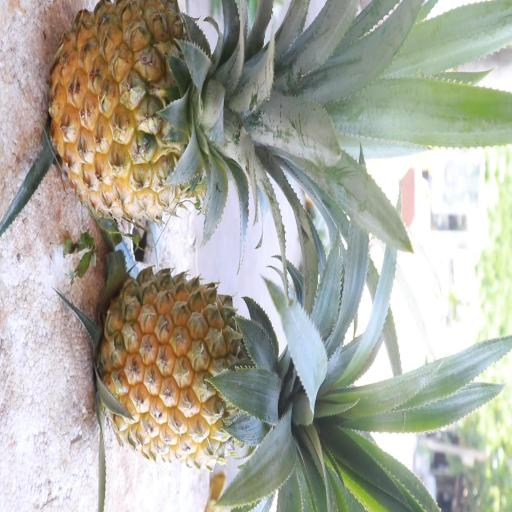Pineapple - v8 v1: (44, 1, 294, 231), (90, 260, 334, 477)
